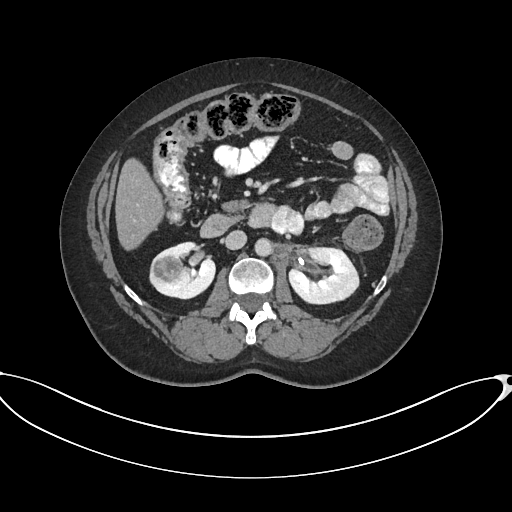Lesion: (148, 253, 184, 289)
